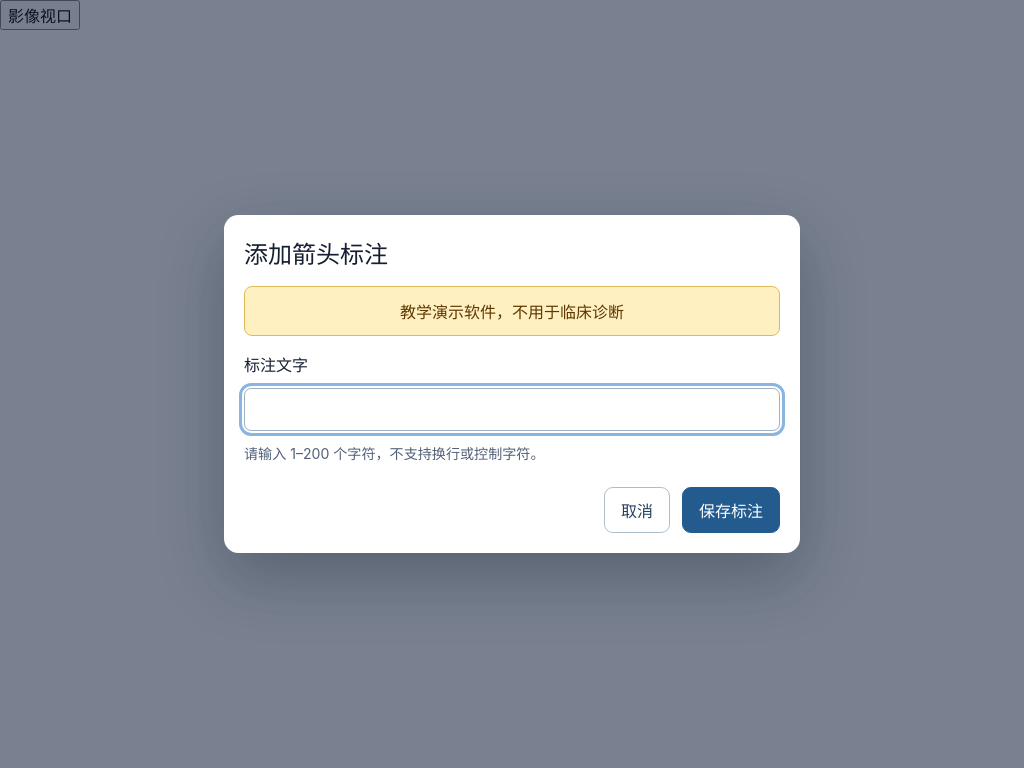
Scenario: AnnotationTextDialog › creates trimmed text, repeats disclaimer, and restores viewport focus
Check: the dialog "添加箭头标注" is shown, box [224,214,800,554]
Check: the text "教学演示软件，不用于临床诊断" is shown, box [244,286,780,336]
In the field labelled "标注文字": coordinates (512, 409) [244,388,780,431], type "  teaching target  "
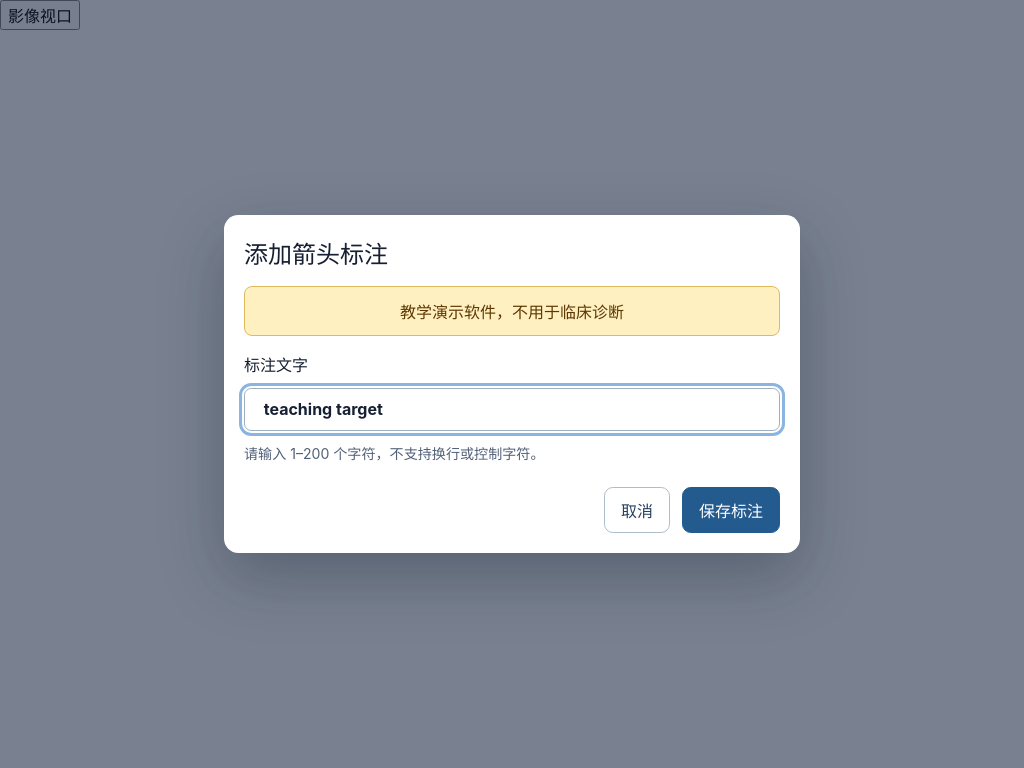
Click the button "保存标注": coordinates (731, 510) [682,487,780,534]
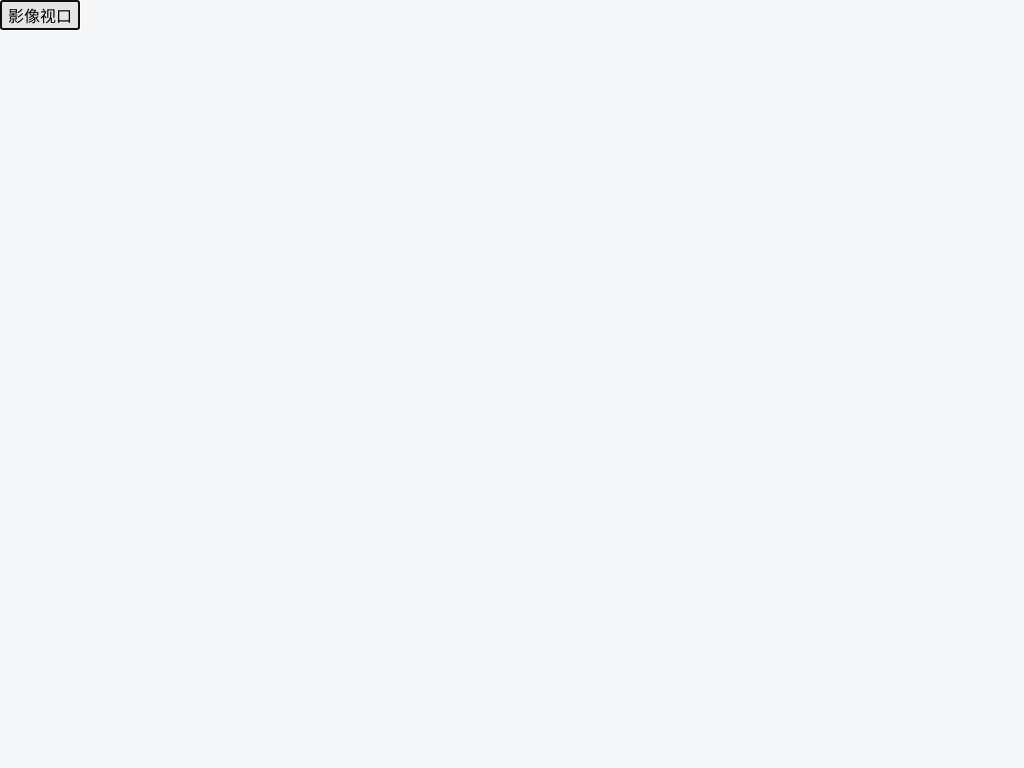
Check: the dialog is gone
